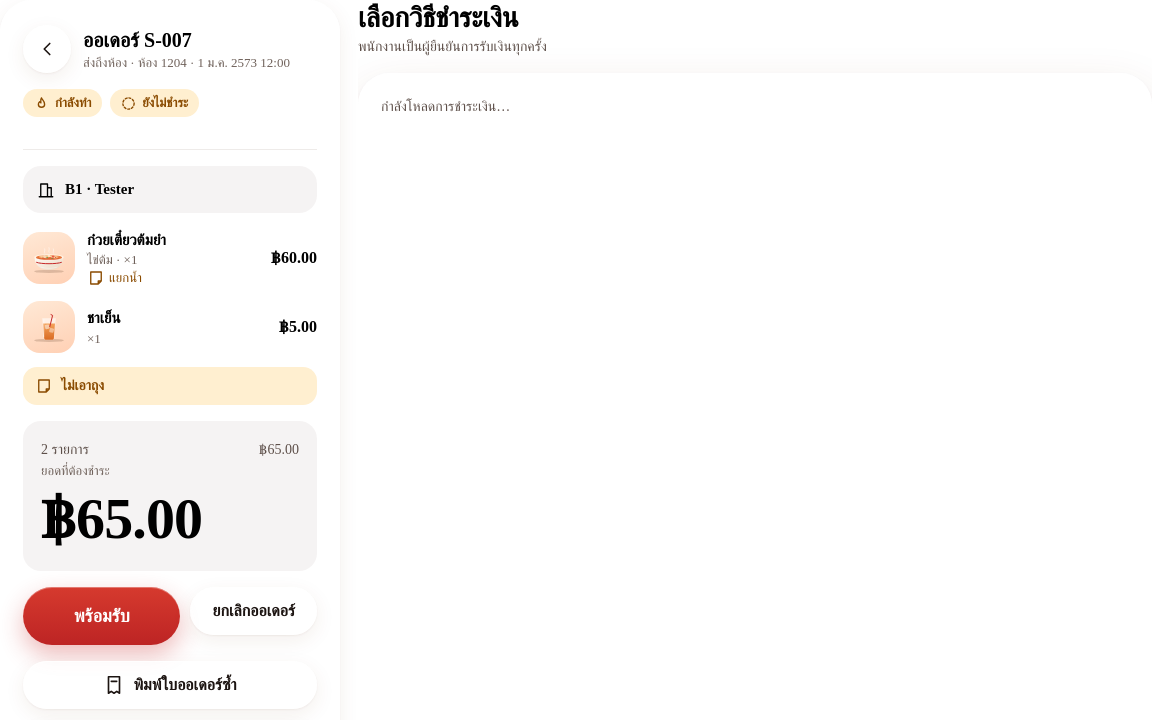
cancelling the order › needs a reason, and sends it to /cancel
Click the button "ยกเลิกออเดอร์" at point(254, 611), box left=190, top=587, right=317, bottom=635
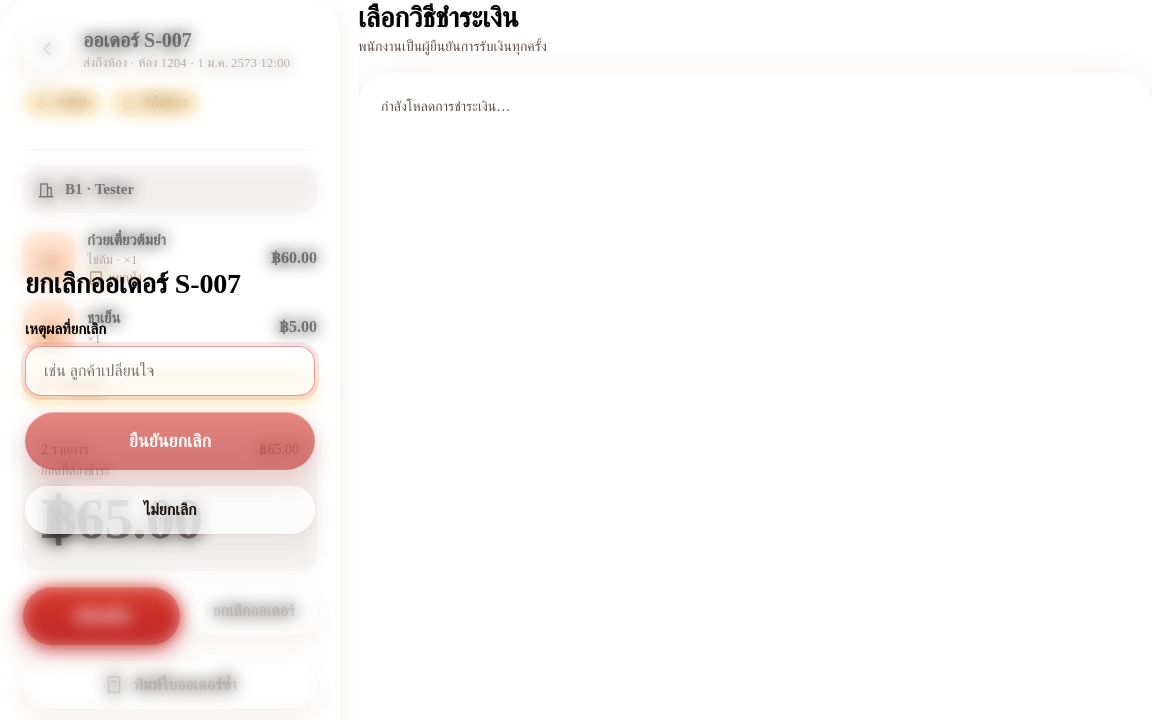
Result: the button "ยืนยันยกเลิก" is disabled at left=25, top=412, right=315, bottom=470
Type "  ลูกค้าเปลี่ยนใจ  " into the field labelled "เหตุผลที่ยกเลิก" at point(170, 372), box left=42, top=362, right=298, bottom=382
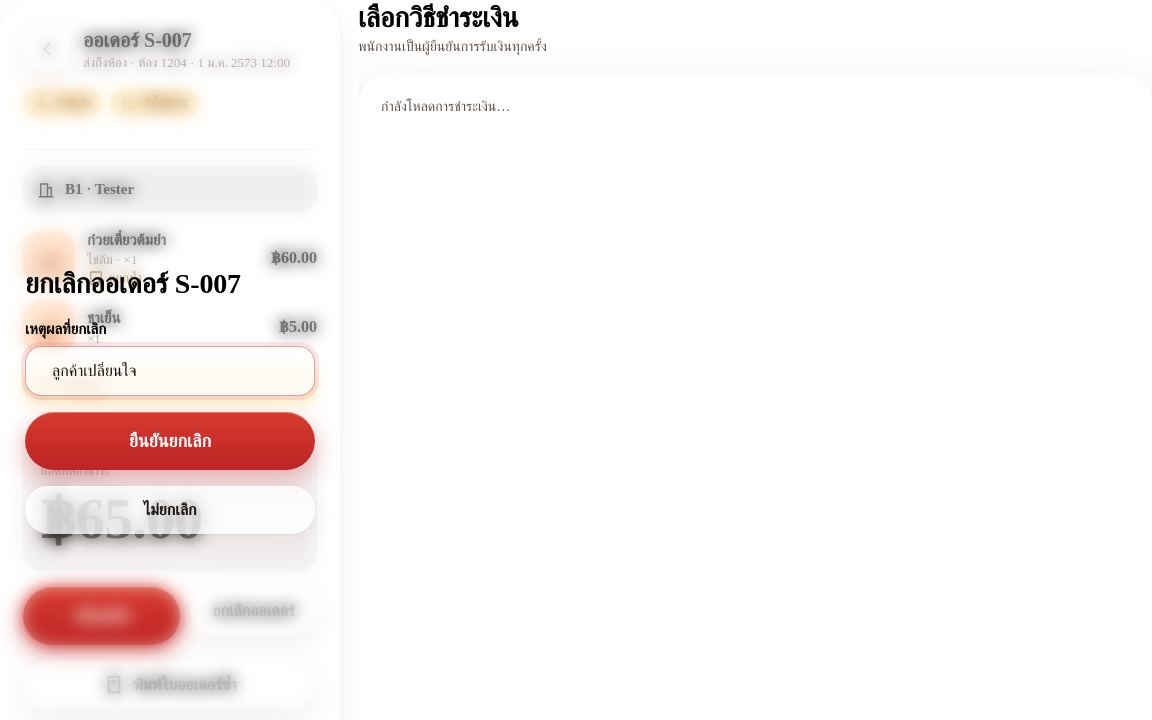
Result: the button "ยืนยันยกเลิก" is enabled
Click the button "ยืนยันยกเลิก" at point(170, 442), box left=25, top=412, right=315, bottom=470
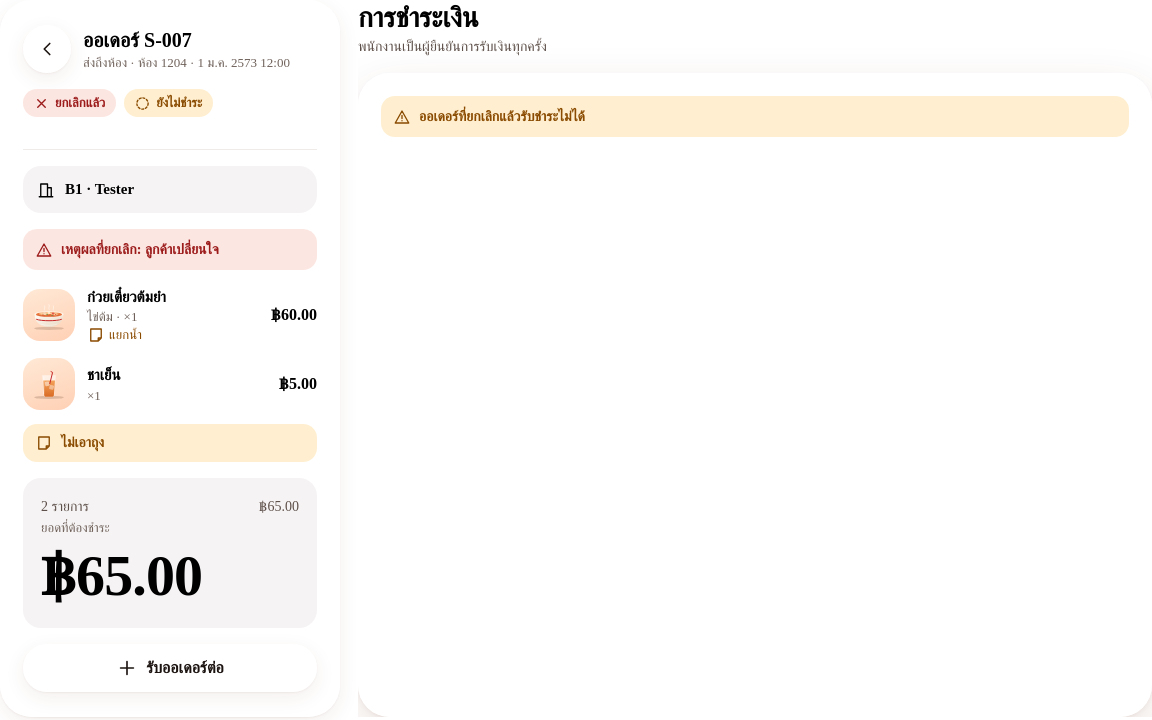
Result: the dialog is gone
